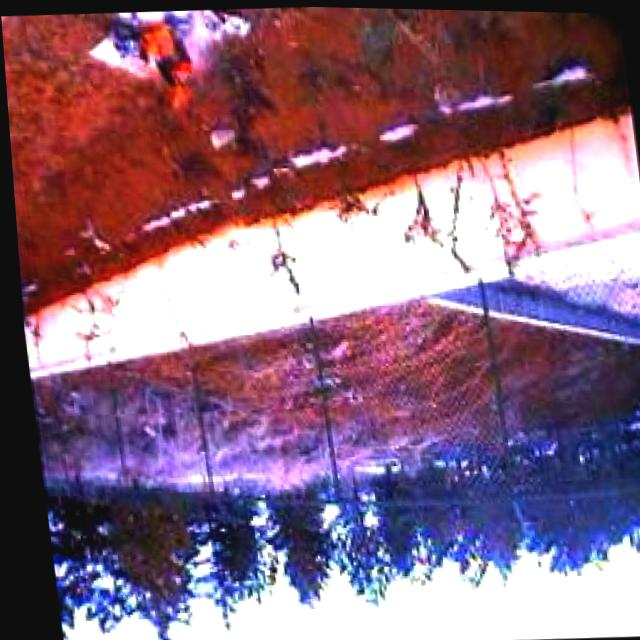helmet: (114, 20, 207, 115)
